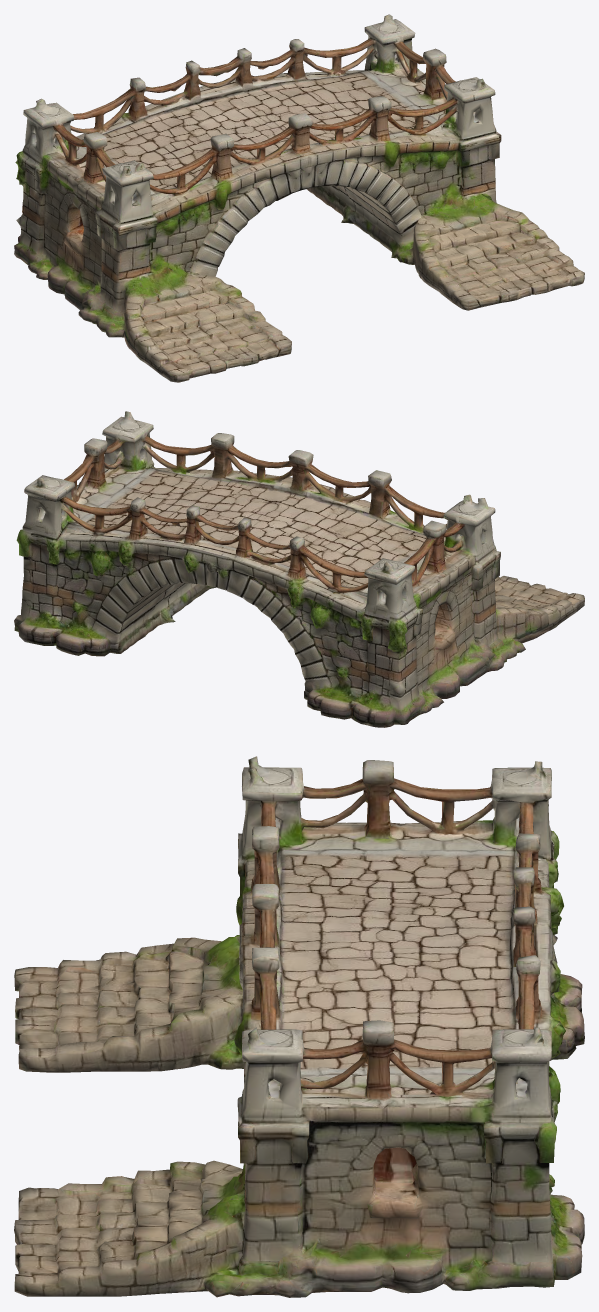
The model's file is bridge.glb.
3 views of the same model, one above another, from view 1: azimuth 30°, elevation 25°; view 2: azimuth 150°, elevation 25°; view 3: azimuth 270°, elevation 25° (orthographic). The views are drawn at different scales.
Visible parts, largest first — view 1: Mesh_0; view 2: Mesh_0; view 3: Mesh_0.
Boxes of the visible parts, bbox=[...] form: Mesh_0: bbox=[14, 14, 584, 382]; Mesh_0: bbox=[14, 411, 584, 727]; Mesh_0: bbox=[14, 756, 584, 1297].
Size of the model in its own units: 1.9 by 0.6836 by 1.42.
1 material, 1 textured.
